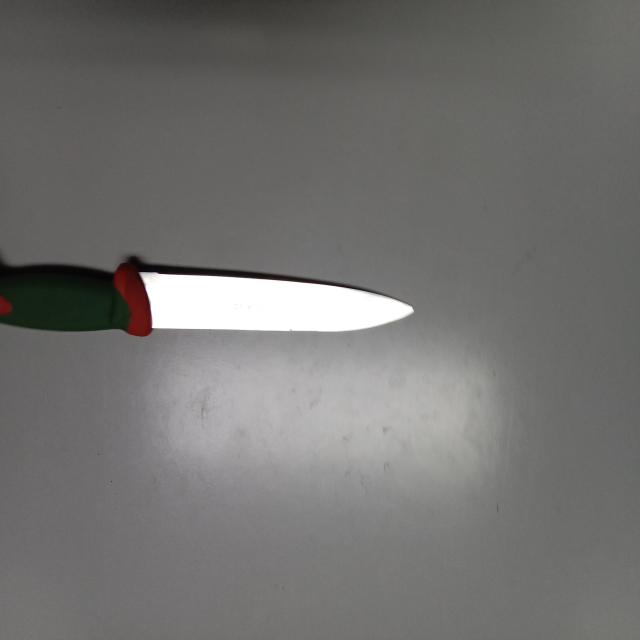Knife: (0, 259, 414, 336)
